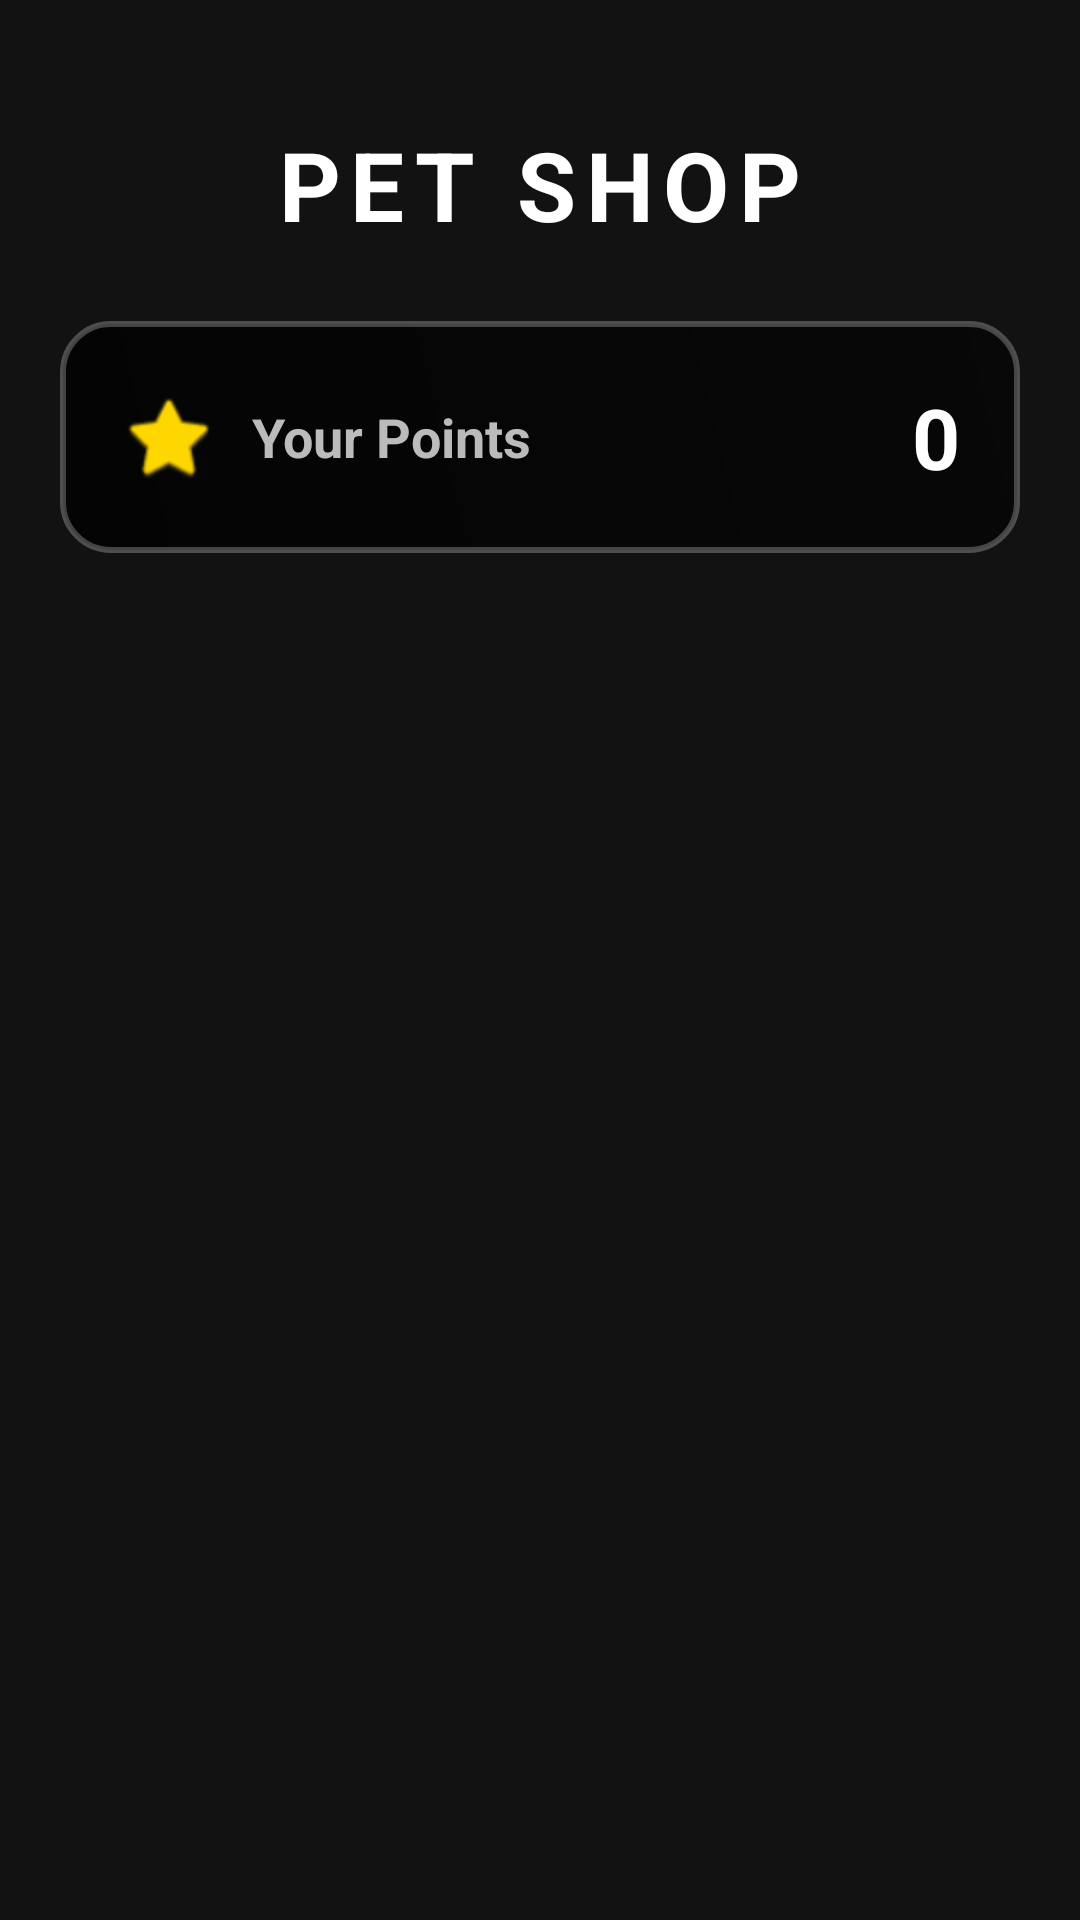

Locate icon controls on the screen. Image size 1080x1920, boxes as box(x1, y1, x2, y2).
star on: box(129, 399, 209, 477)
